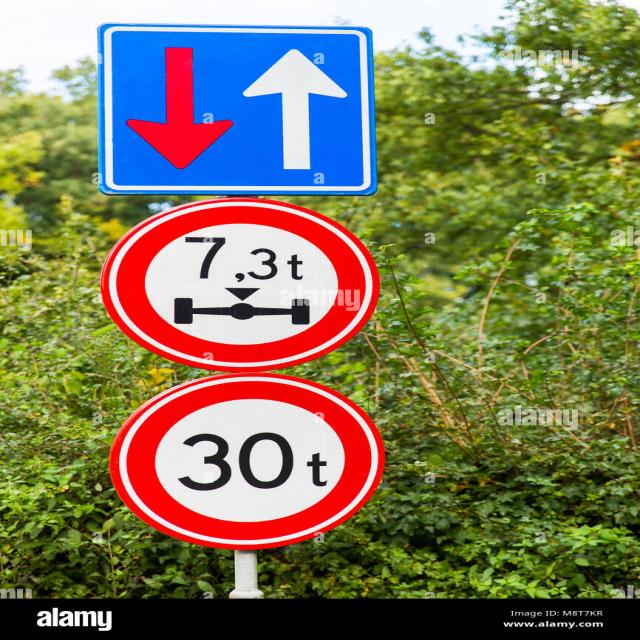forbidden: (97, 198, 382, 372)
indication: (92, 22, 380, 199)
